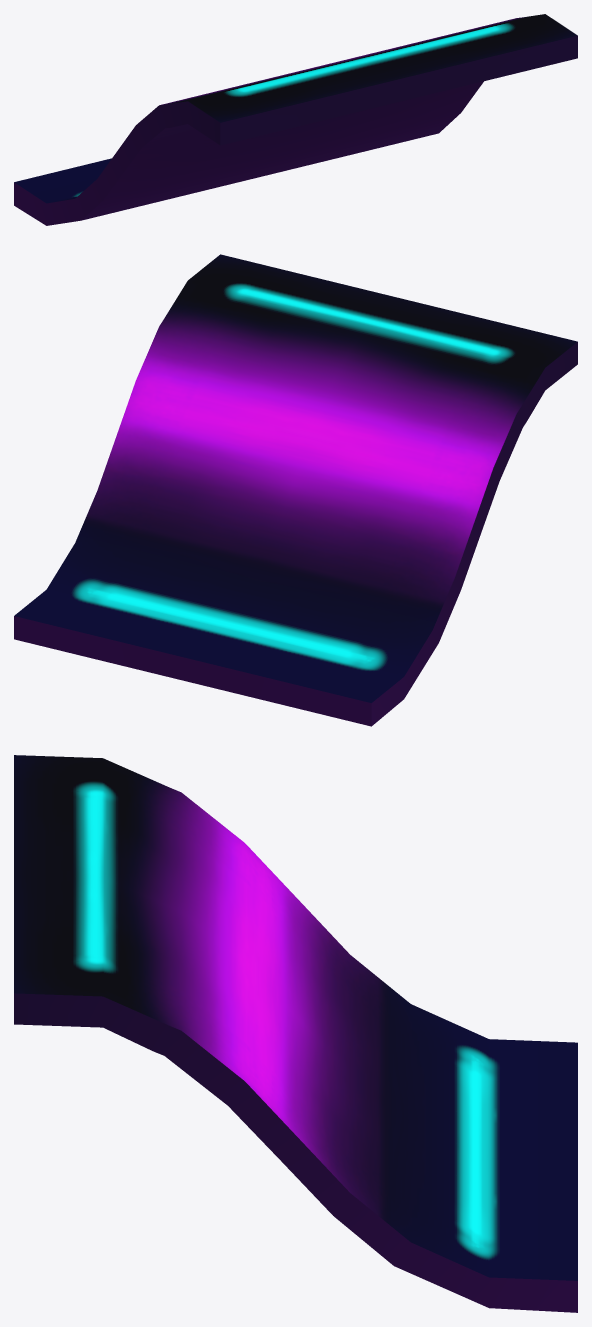
The model's file is urban_slope3.gltf.
3 views of the same model, one above another, from view 1: azimuth 30°, elevation 25°; view 2: azimuth 150°, elevation 25°; view 3: azimuth 270°, elevation 25° (orthographic). The views are drawn at different scales.
Visible parts, largest first — view 1: urban_slope3_glb; view 2: urban_slope3_glb; view 3: urban_slope3_glb.
Boxes of the visible parts, x1,y1,x2,y2 form: urban_slope3_glb: (14,14,577,225); urban_slope3_glb: (14,254,577,726); urban_slope3_glb: (14,755,577,1312).
Size of what is drawn, in the model's own units: 4 by 2.5 by 4.
Materials: 1 (1 with a texture image).
